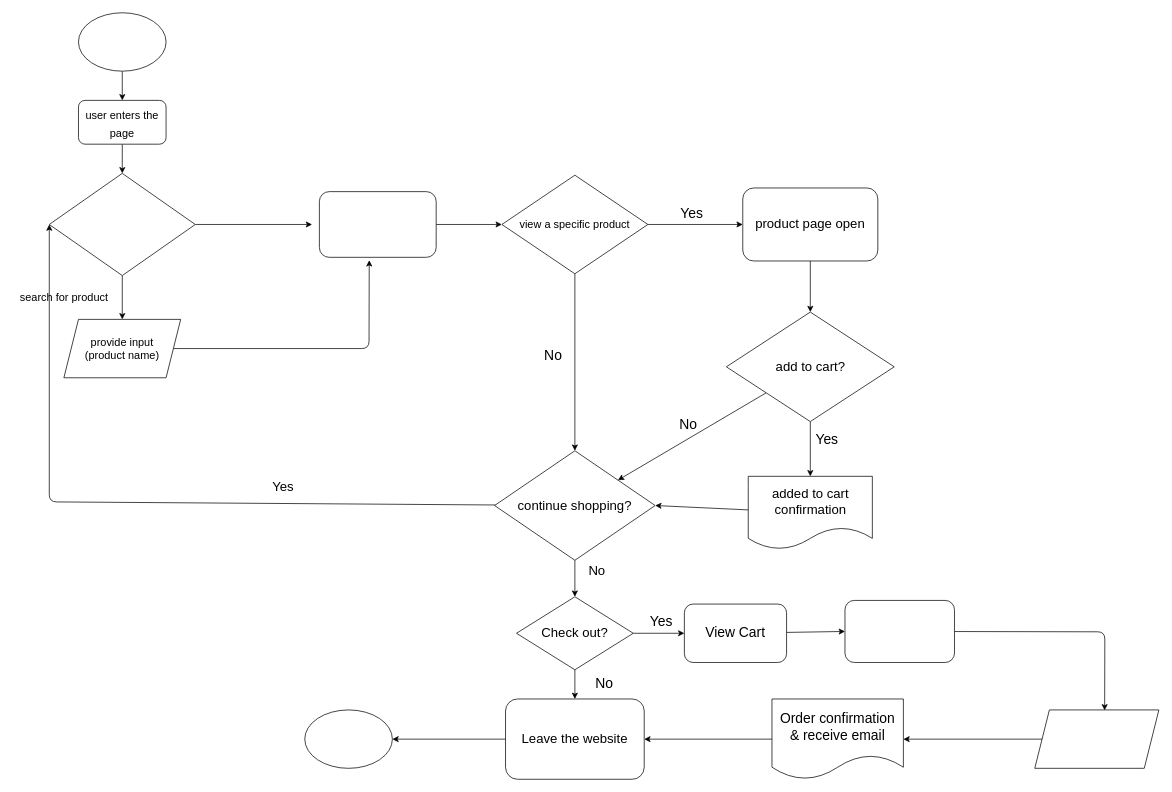
Image size: 1172x792. Some labels were removed from this diagram. The centre of each missing label's shape, as x and y in pixels:
END: the point at 348,738
Give input of payment information: the point at 1096,738
looking over the product: the point at 377,224
search or explore products: the point at 122,224
Start: the point at 122,41
View payment: the point at 899,631
